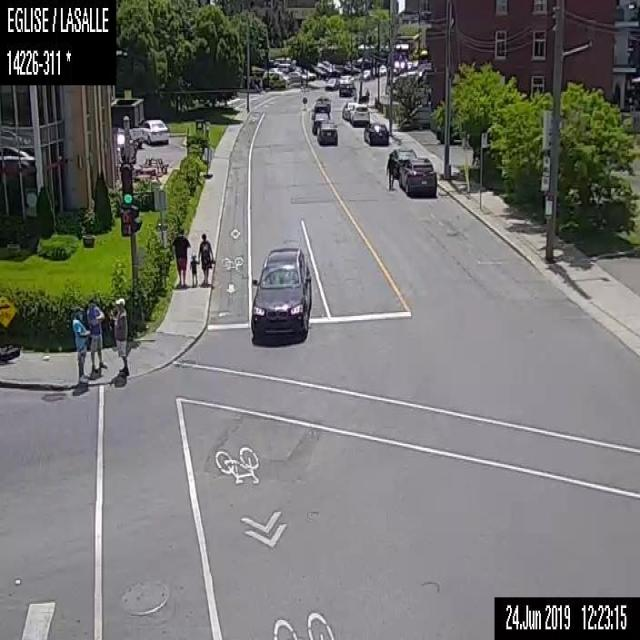pedestrian: (84, 296, 108, 374), (70, 306, 91, 388), (169, 225, 193, 288), (189, 230, 214, 286), (113, 293, 130, 375), (385, 148, 397, 189)
vehicle: (249, 243, 311, 344), (400, 156, 438, 199), (138, 116, 168, 144), (389, 148, 416, 177), (116, 131, 138, 163), (362, 120, 388, 144), (316, 119, 337, 147), (349, 102, 369, 125), (340, 100, 357, 120), (339, 79, 353, 96), (314, 95, 331, 108), (323, 76, 338, 90), (312, 110, 329, 122)
